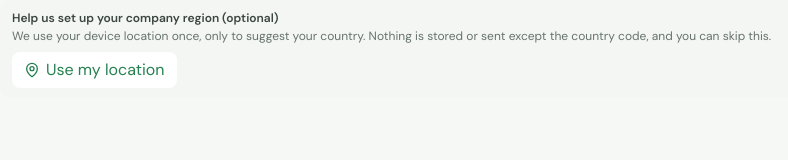
it: RegionalLocationOptIn › shows a calm message when location is timeout and stores nothing
Click the button "Use my location" at x=94, y=70, box x1=12 y1=52 x2=176 y2=88
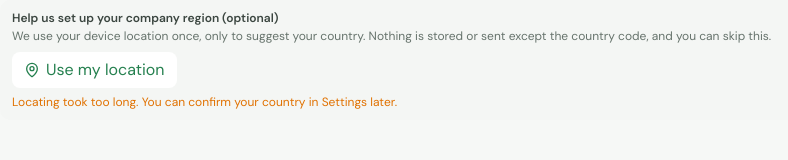
Now the text "Locating took too long. You can confirm your country in Settings later." is shown, box x1=12 y1=94 x2=397 y2=110
